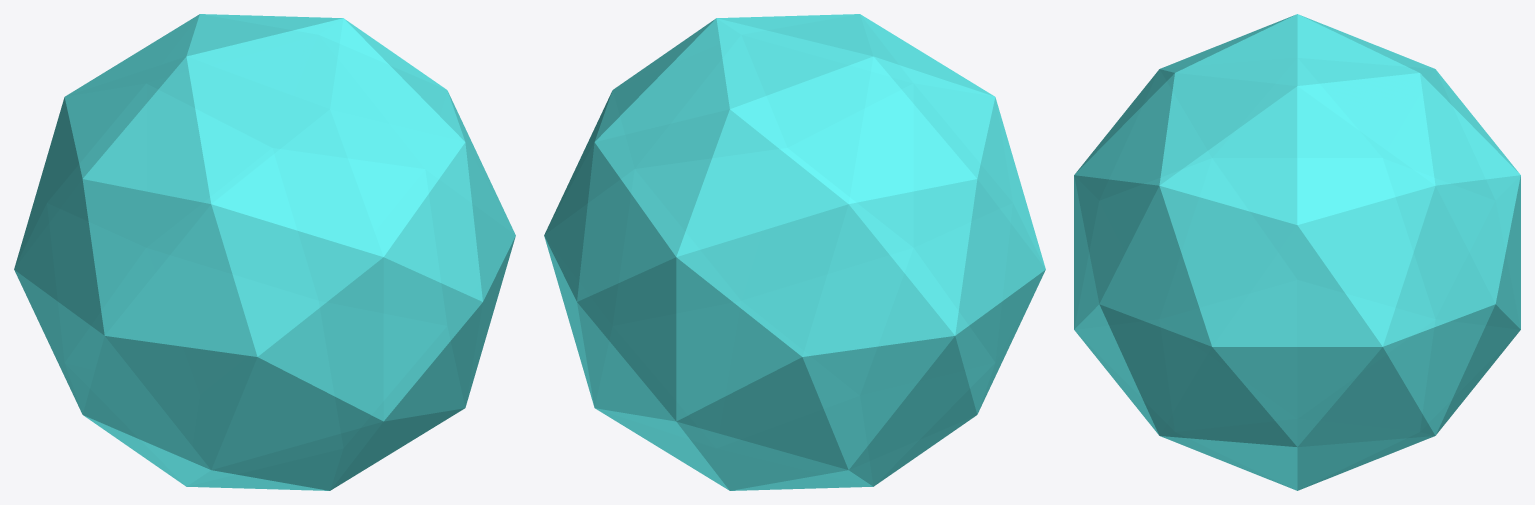
The model's file is PentakisDodecahedron.obj.
3 views of the same model, side by side, from view 1: azimuth 30°, elevation 25°; view 2: azimuth 150°, elevation 25°; view 3: azimuth 270°, elevation 25° (orthographic). The views are drawn at different scales.
Bounding box in the file's own units: 4.85 × 4.85 × 4.85.
